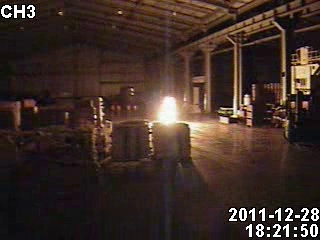fire: (155, 93, 178, 127)
